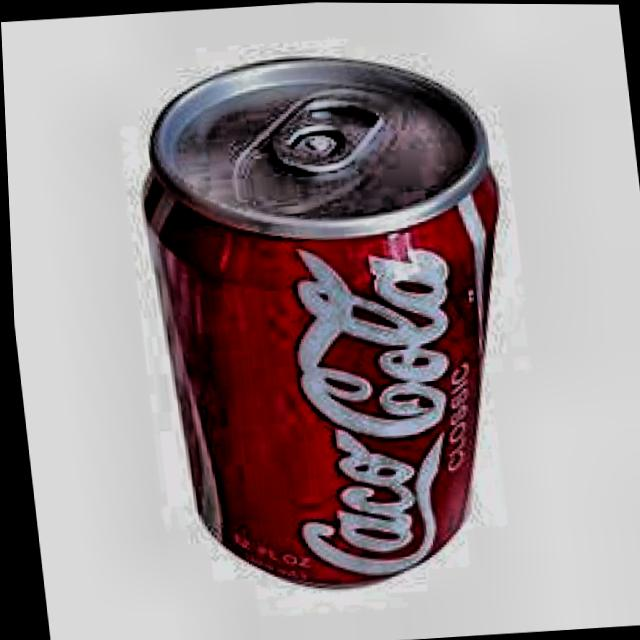Cans: (103, 24, 555, 619)
